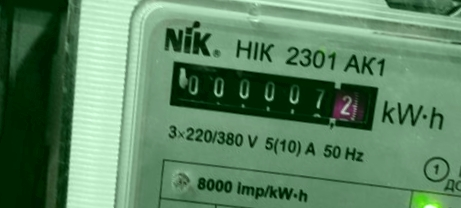0: (185, 70, 202, 96), (262, 78, 279, 103), (237, 75, 253, 100), (287, 81, 303, 105), (211, 74, 227, 97)
2: (338, 92, 355, 116)
7: (312, 84, 327, 110)
screen: (156, 46, 390, 143)
